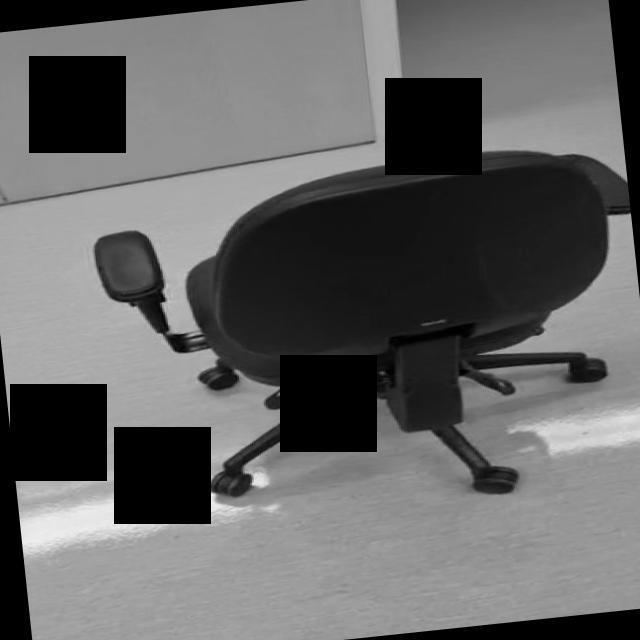chair: (85, 135, 640, 530)
